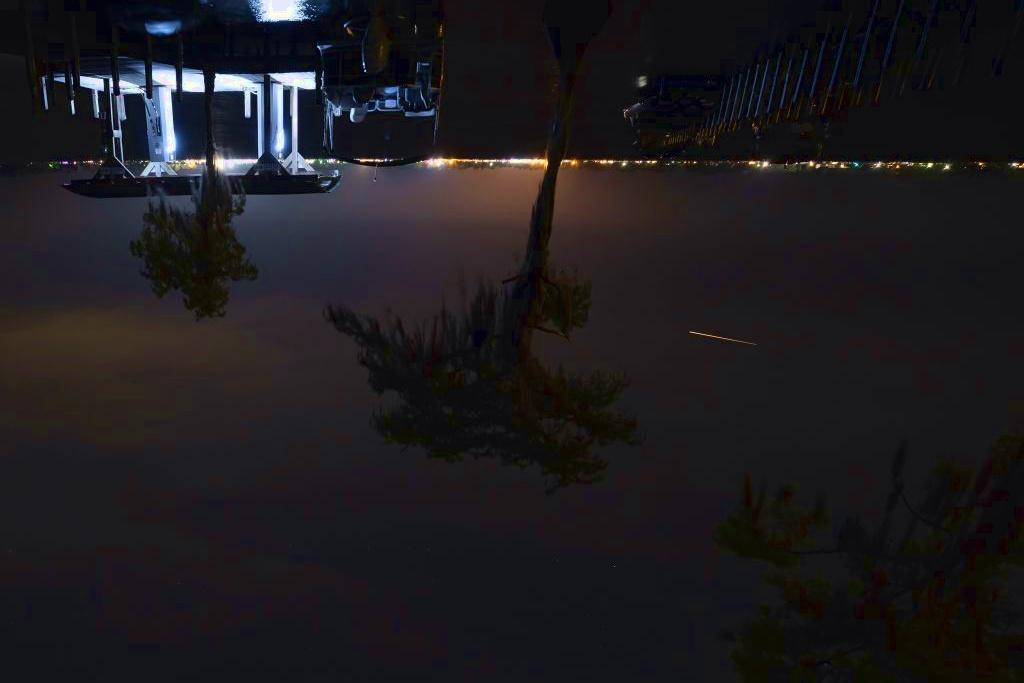meteorite: (667, 318, 783, 354)
